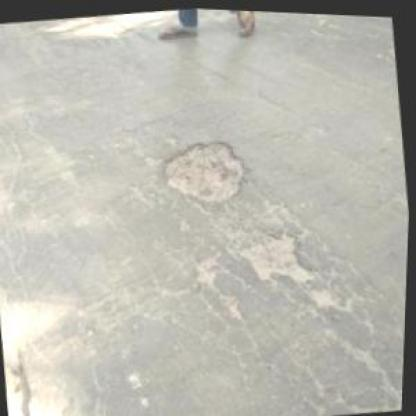pothole: (161, 132, 255, 209), (240, 222, 324, 287)
